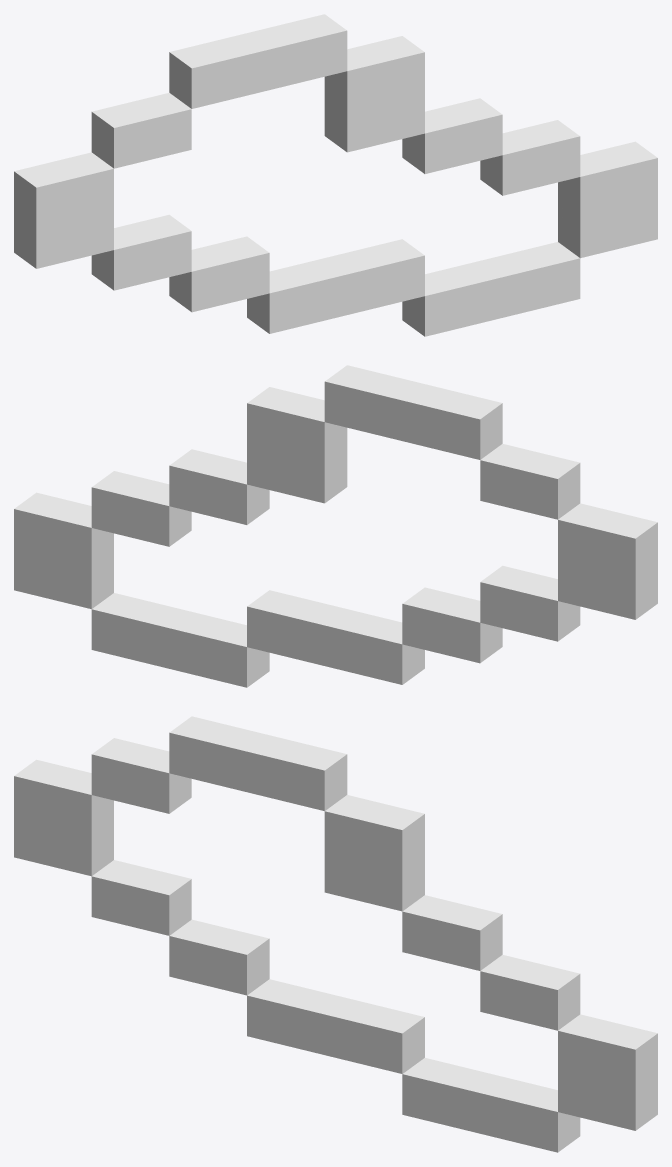
File: Necklace-White.vox.obj
The picture shows the model from 3 angles, top to bottom: view 1: azimuth 30°, elevation 25°; view 2: azimuth 150°, elevation 25°; view 3: azimuth 330°, elevation 25°; orthographic projection.
Size of the model in its own units: 1.6 by 0.8 by 0.1.
1 material, 1 textured.
